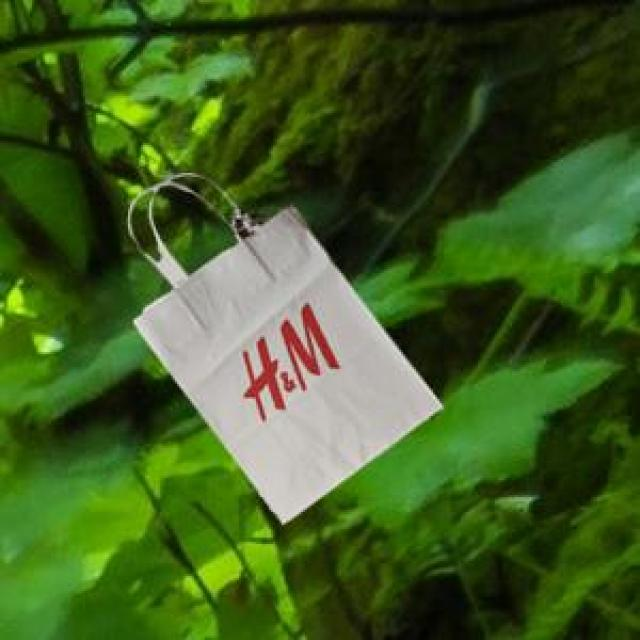Paper -Biodegradable-: (128, 204, 446, 527)
